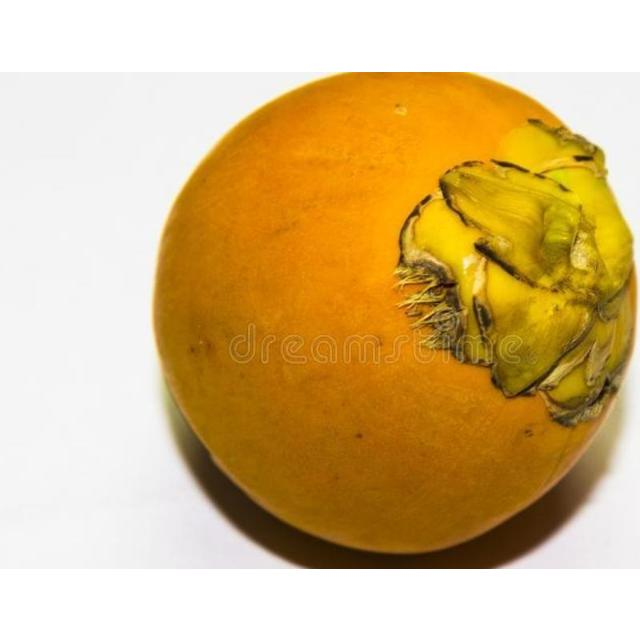good: (150, 71, 639, 557)
